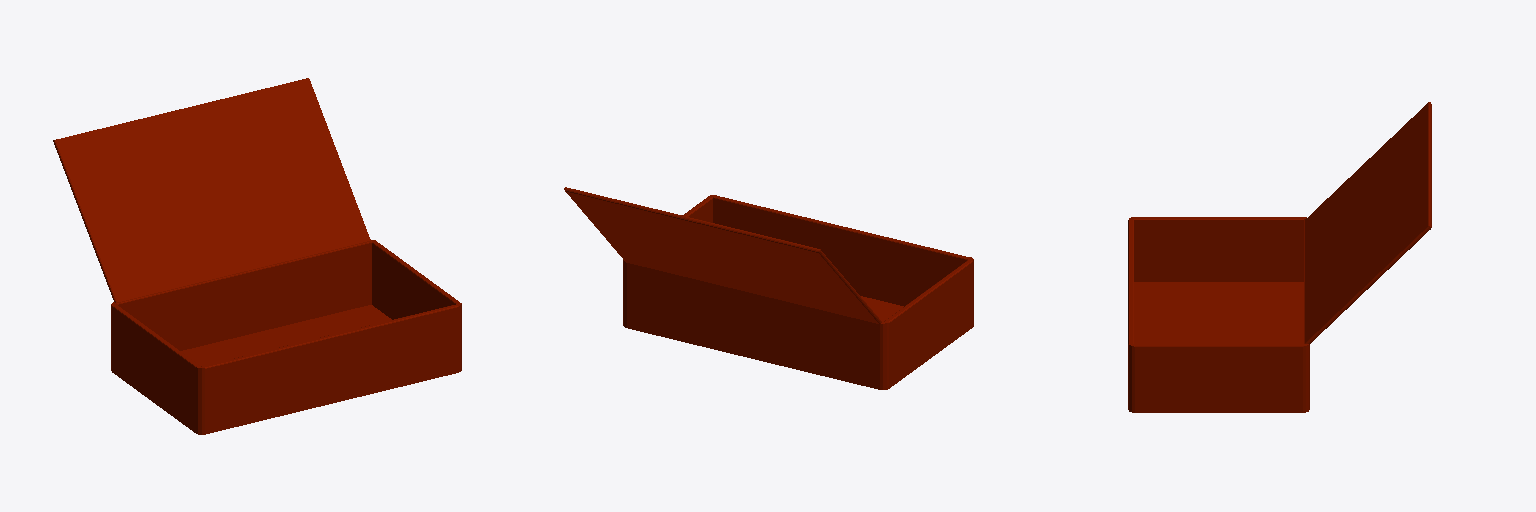
File: luggage.obj
The picture shows the model from 3 angles: view 1: azimuth 30°, elevation 25°; view 2: azimuth 150°, elevation 25°; view 3: azimuth 270°, elevation 25°; orthographic projection.
Visible parts, largest first — view 1: TopLuggage; view 2: TopLuggage; view 3: TopLuggage.
Boxes of the visible parts, x1=… form: TopLuggage: x1=53, y1=78, x2=461, y2=434; TopLuggage: x1=564, y1=187, x2=973, y2=389; TopLuggage: x1=1128, y1=102, x2=1431, y2=412.
Size of the model in its own units: 3.35 by 2.23 by 3.31.